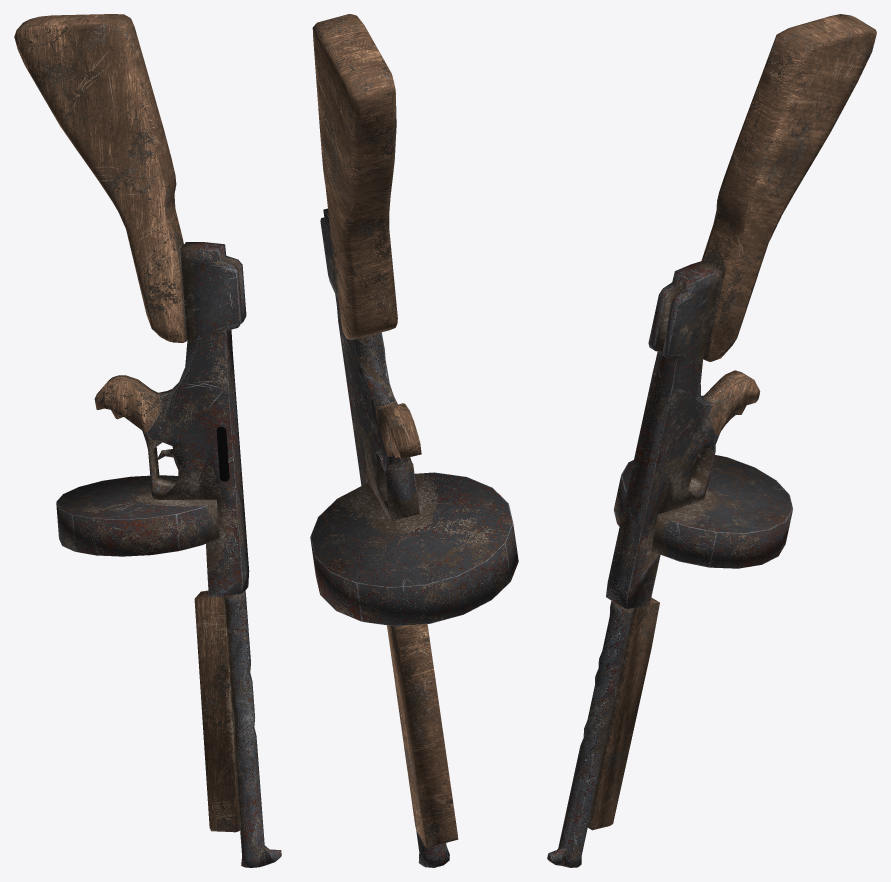
Rendered from Anim_idle_ametralladora_objetos.0032.obj.
3 views of the same model, side by side, from view 1: azimuth 30°, elevation 25°; view 2: azimuth 150°, elevation 25°; view 3: azimuth 270°, elevation 25° (orthographic). The views are drawn at different scales.
Visible parts, largest first — view 1: Ametralladora1; view 2: Ametralladora1; view 3: Ametralladora1.
Boxes of the visible parts, bbox=[...] form: Ametralladora1: bbox=[14, 14, 281, 867]; Ametralladora1: bbox=[310, 14, 518, 867]; Ametralladora1: bbox=[547, 14, 876, 867].
Size of the model in its own units: 1.28 by 5.87 by 2.16.
